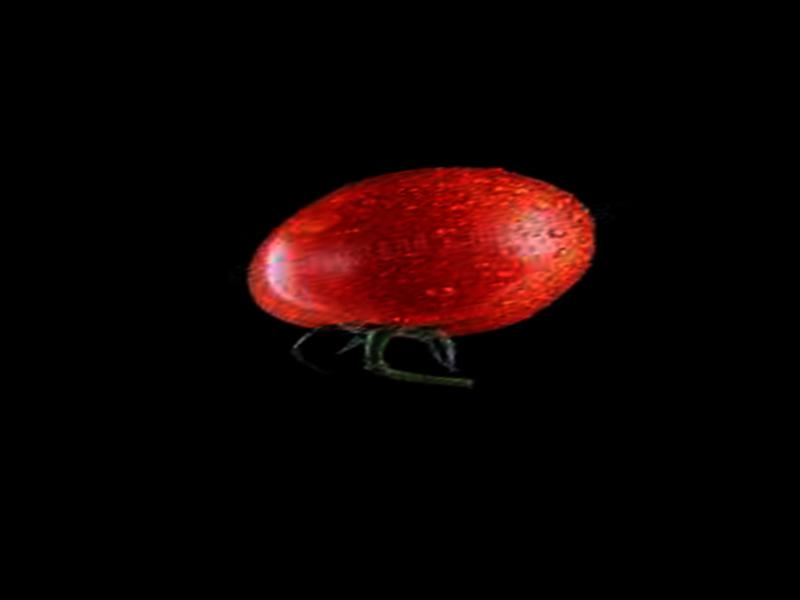Tomato: (233, 140, 611, 370)
